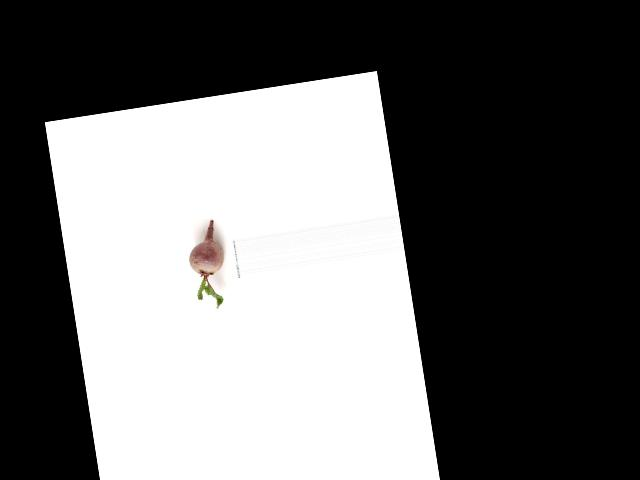beet: (184, 220, 231, 311)
